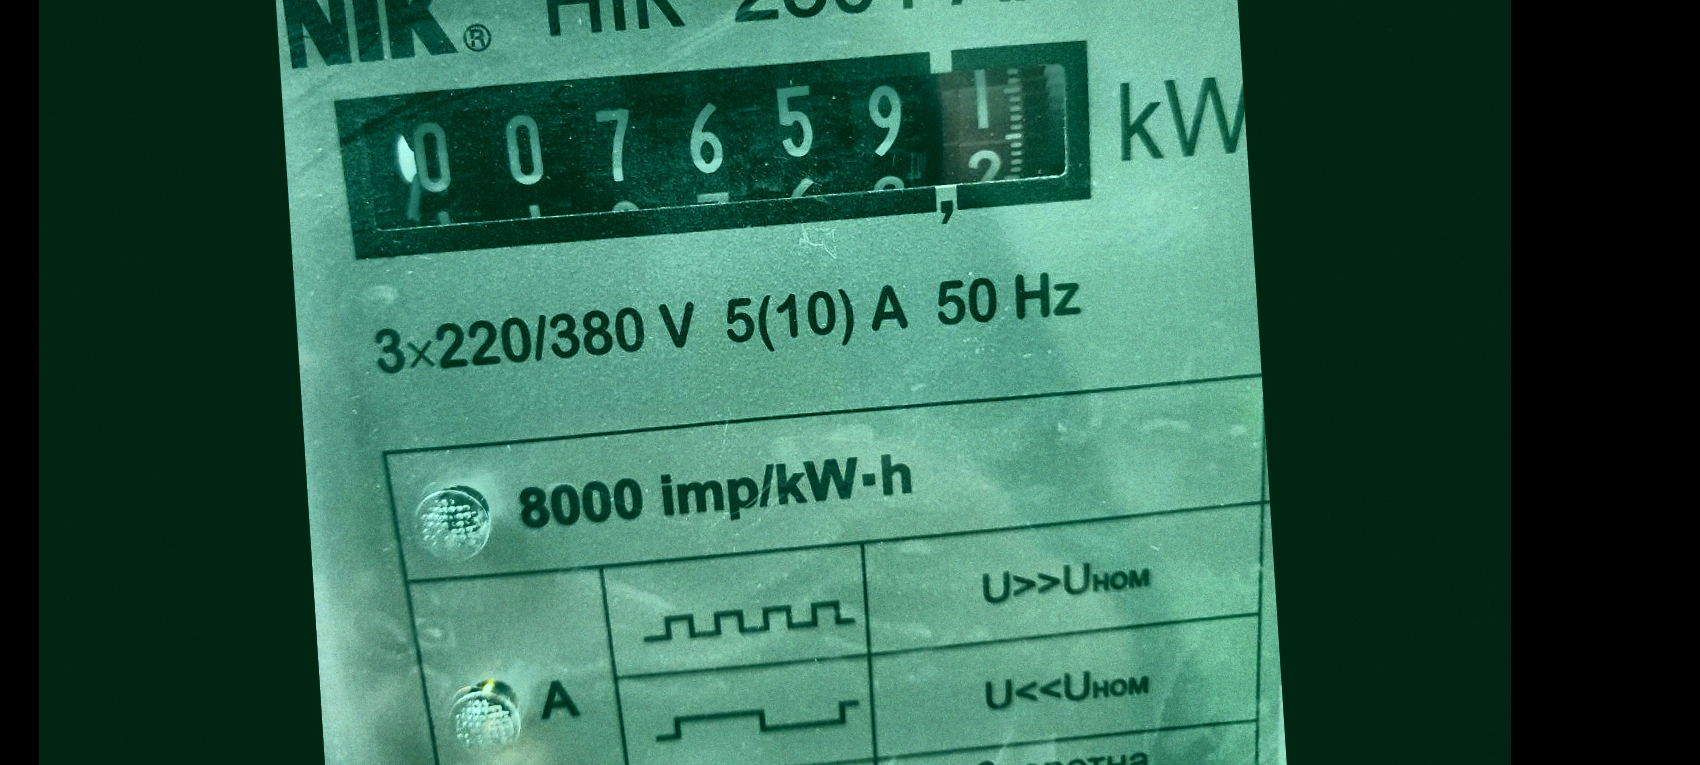0: (492, 104, 553, 193), (404, 111, 460, 204)
1: (964, 61, 1003, 138)
5: (769, 79, 820, 163)
6: (677, 93, 733, 179)
7: (590, 101, 637, 189)
9: (862, 76, 909, 166)
screen: (313, 18, 1119, 282)
